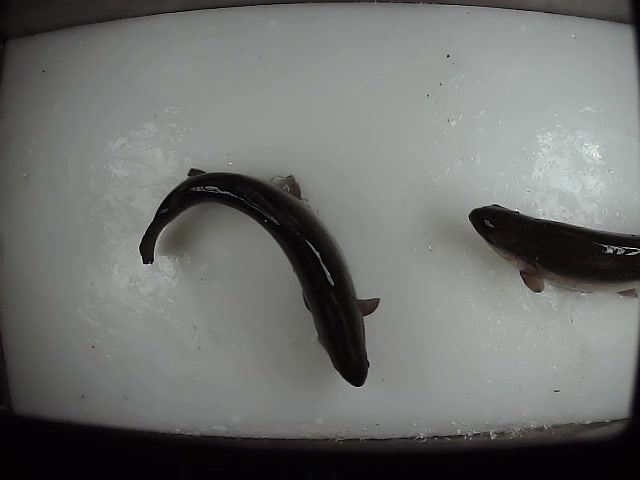Fish: (139, 167, 380, 387)
